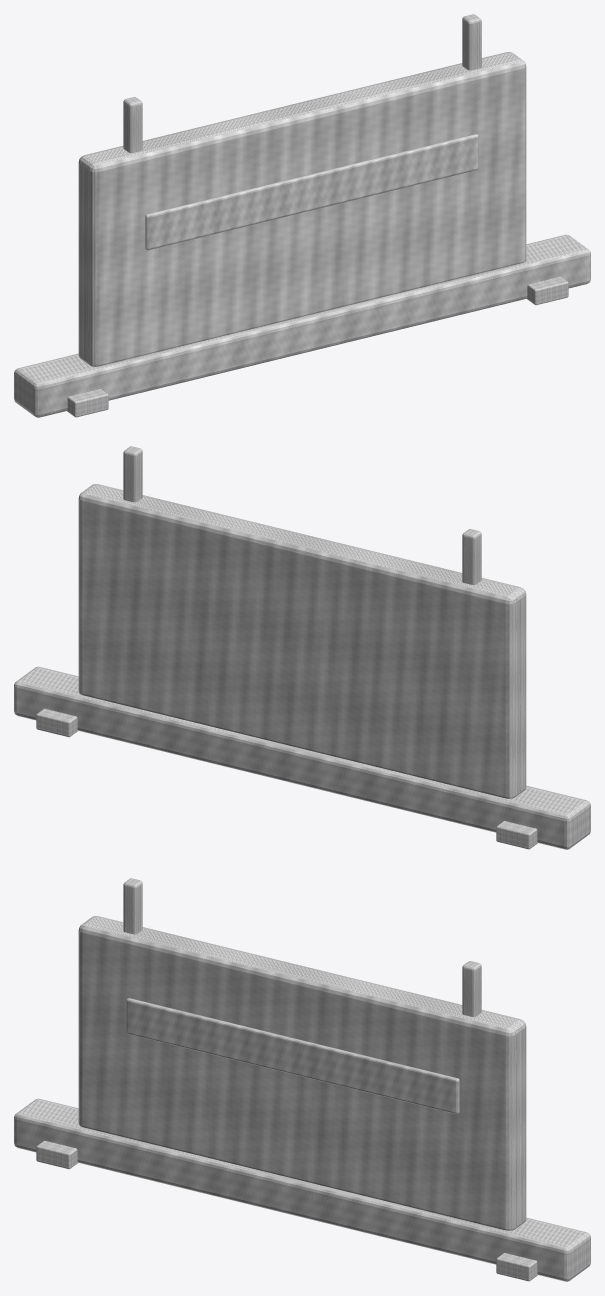
Rendered from wall-conveyor-x3_variant_c.glb.
3 renders of one model, top to bottom at view 1: azimuth 30°, elevation 25°; view 2: azimuth 150°, elevation 25°; view 3: azimuth 330°, elevation 25°, orthographic.
Visible parts, largest first — view 1: Equipment body.002, Foundation.002, Connection plate.003, Support strut.005, Support strut.004, Mounting foot.010, Mounting foot.008; view 2: Equipment body.002, Foundation.002, Support strut.005, Support strut.004, Mounting foot.011, Mounting foot.009; view 3: Equipment body.002, Foundation.002, Connection plate.003, Support strut.004, Support strut.005, Mounting foot.008, Mounting foot.010.
Boxes of the visible parts, x1,y1,x2,y2 form: Equipment body.002: [78, 52, 526, 366]; Foundation.002: [14, 234, 590, 417]; Connection plate.003: [145, 134, 478, 250]; Support strut.005: [462, 14, 481, 70]; Support strut.004: [123, 97, 142, 152]; Mounting foot.010: [526, 276, 568, 305]; Mounting foot.008: [67, 389, 108, 417]; Equipment body.002: [78, 484, 526, 798]; Foundation.002: [14, 666, 590, 849]; Support strut.005: [123, 446, 142, 502]; Support strut.004: [462, 529, 481, 584]; Mounting foot.011: [36, 708, 78, 737]; Mounting foot.009: [496, 821, 537, 849]; Equipment body.002: [78, 916, 526, 1230]; Foundation.002: [14, 1098, 590, 1281]; Connection plate.003: [126, 998, 459, 1114]; Support strut.004: [123, 878, 142, 934]; Support strut.005: [462, 961, 481, 1016]; Mounting foot.008: [36, 1140, 78, 1169]; Mounting foot.010: [496, 1253, 537, 1281].
Size of what is drawn, in the model's own units: 7.36 by 3.6 by 0.906.
Materials: 4 (4 with a texture image).
